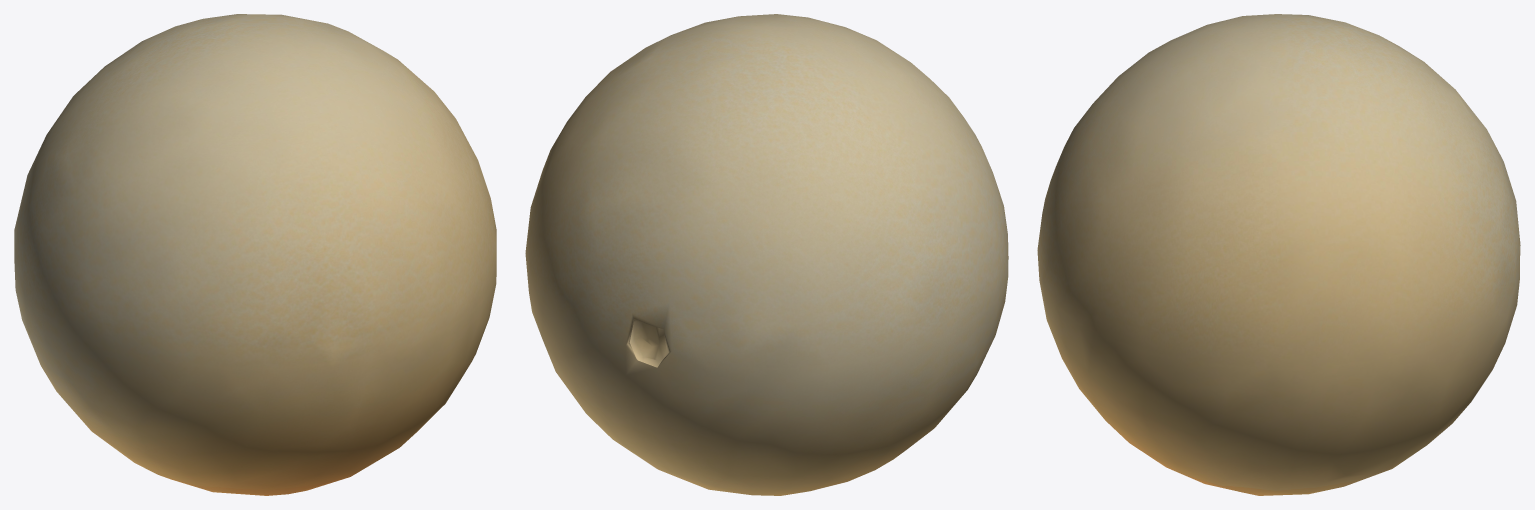
File: glowing yellow ball 3d model.glb
3 views of the same model, side by side, from view 1: azimuth 30°, elevation 25°; view 2: azimuth 150°, elevation 25°; view 3: azimuth 270°, elevation 25° (orthographic).
Visible parts, largest first — view 1: tripo_node_839c71c4-3620-4053-9dee-73120a315498; view 2: tripo_node_839c71c4-3620-4053-9dee-73120a315498; view 3: tripo_node_839c71c4-3620-4053-9dee-73120a315498.
Boxes of the visible parts, x1,y1,x2,y2 form: tripo_node_839c71c4-3620-4053-9dee-73120a315498: (14,14,496,495); tripo_node_839c71c4-3620-4053-9dee-73120a315498: (525,14,1008,495); tripo_node_839c71c4-3620-4053-9dee-73120a315498: (1037,14,1520,495).
Bounding box in the file's own units: 0.9814 × 0.9785 × 0.9767.
1 material, 1 textured.
